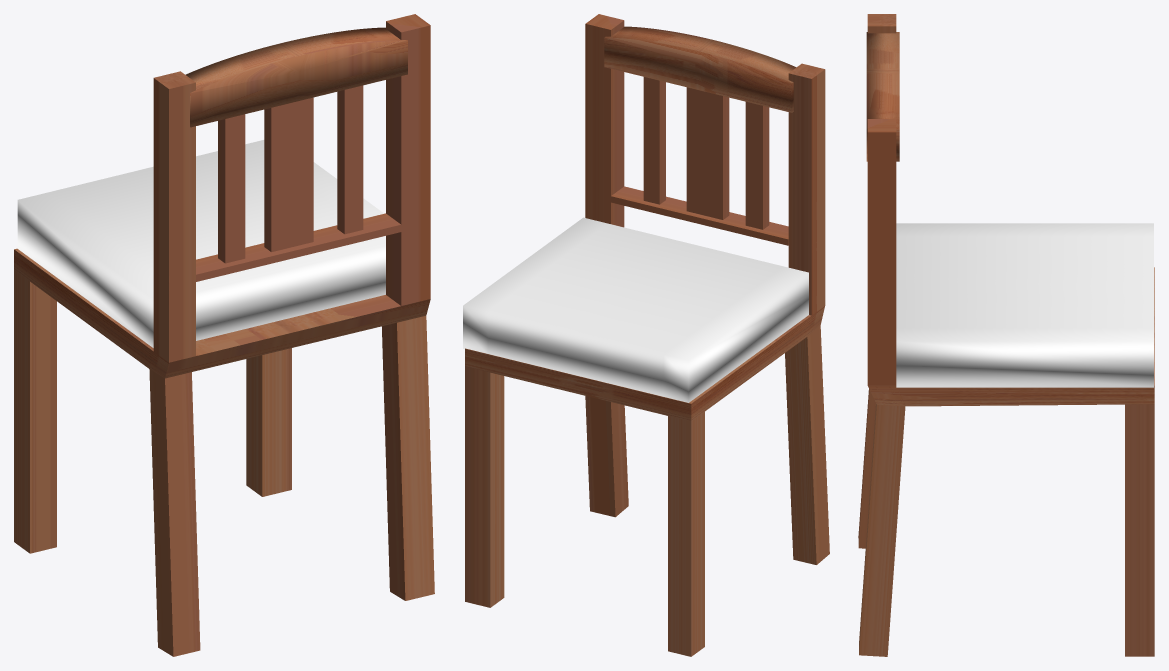
File: Makku (1).glb
The picture shows the model from 3 angles, left to right: view 1: azimuth 30°, elevation 25°; view 2: azimuth 150°, elevation 25°; view 3: azimuth 270°, elevation 25°; orthographic projection. The views are drawn at different scales.
Visible parts, largest first — view 1: Cube, Cube.003, Cube.002; view 2: Cube, Cube.003, Cube.002; view 3: Cube.003, Cube, Cube.002.
Boxes of the visible parts, box(x1,y1,x2,y2) form: Cube: box(14, 14, 434, 656); Cube.003: box(17, 140, 385, 347); Cube.002: box(185, 27, 407, 127); Cube: box(465, 14, 829, 656); Cube.003: box(463, 217, 808, 402); Cube.002: box(604, 26, 796, 112); Cube.003: box(896, 223, 1153, 387); Cube: box(858, 14, 1154, 656); Cube.002: box(866, 32, 899, 161).
Bounding box in the file's own units: 0.8091 × 1.66 × 0.8463.
3 materials, 2 textured.
